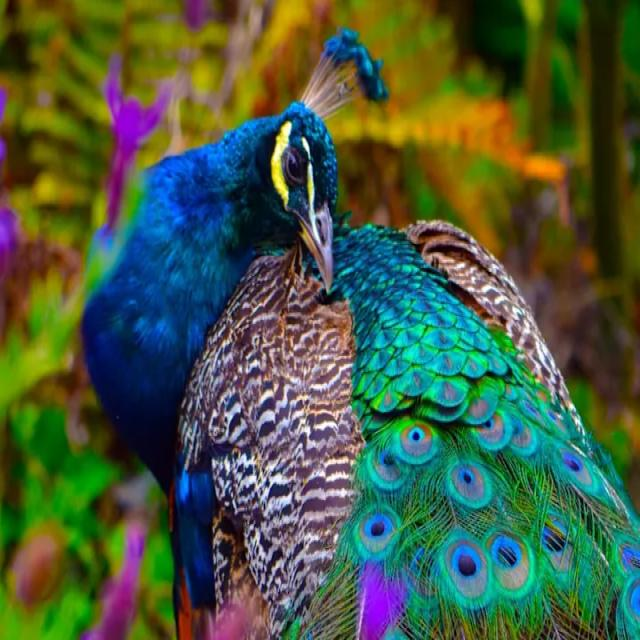peacock: (66, 31, 638, 638)
